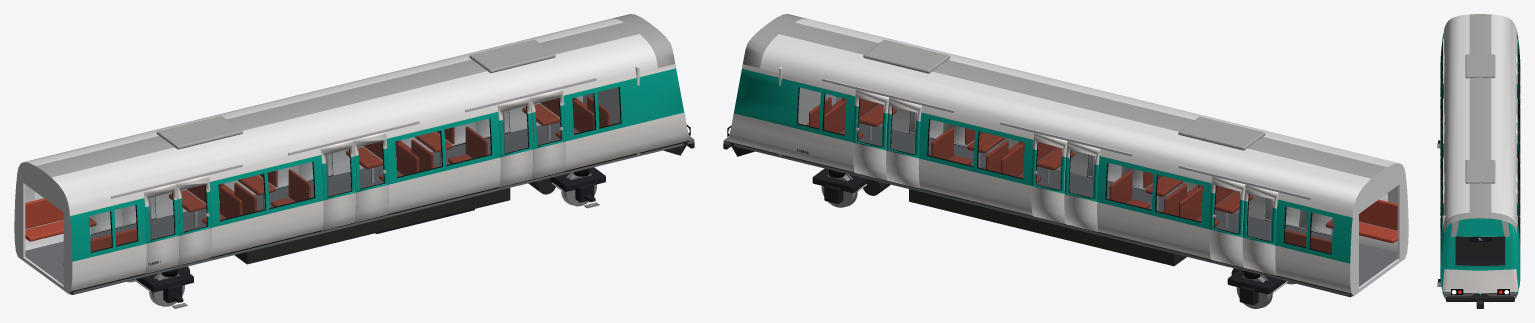
Rendered from mf88_cab.glb.
3 views of the same model, side by side, from view 1: azimuth 30°, elevation 25°; view 2: azimuth 150°, elevation 25°; view 3: azimuth 270°, elevation 25° (orthographic). The views are drawn at different scales.
Visible parts, largest first — view 1: METRO_MF88_7bis-3voit_V1_Caisse, METRO_MF88_7bis-3voit_V1_BaieG1, METRO_MF88_7bis-3voit_V1_PorteD1_AV.002, METRO_MF88_7bis-3voit_V1_PorteD2_AV.002, METRO_MF88_7bis-3voit_V1_PorteD3_AV.002, METRO_MF88_7bis-3voit_V1_PorteD3_AR.002, METRO_MF88_7bis-3voit_V1_PorteD2_AR.002, METRO_MF88_7bis-3voit_V1_PorteD1_AR.002, METRO_MF88_7bis-3voit_V1_PorteD1_AR_Vitre, METRO_MF88_7bis-3voit_V1_PorteD3_AV_Vitre, METRO_MF88_7bis-3voit_V1_PorteD2_AR_Vitre, METRO_MF88_7bis-3voit_V1_PorteD1_AV_Vitre (+3 smaller); view 2: METRO_MF88_7bis-3voit_V1_Caisse, METRO_MF88_7bis-3voit_V1_BaieG1, METRO_MF88_7bis-3voit_V1_PorteG2_AV.002, METRO_MF88_7bis-3voit_V1_PorteG3_AV.002, METRO_MF88_7bis-3voit_V1_PorteG1_AV.002, METRO_MF88_7bis-3voit_V1_PorteG3_AR.002, METRO_MF88_7bis-3voit_V1_PorteG2_AR.002, METRO_MF88_7bis-3voit_V1_PorteG1_AR.002, METRO_MF88_7bis-3voit_V1_PorteG1_AV_Vitre, METRO_MF88_7bis-3voit_V1_PorteG1_AR_Vitre, METRO_MF88_7bis-3voit_V1_PorteG2_AV_Vitre, METRO_MF88_7bis-3voit_V1_PorteG2_AR_Vitre (+3 smaller); view 3: METRO_MF88_7bis-3voit_V1_Caisse, METRO_MF88_7bis-3voit_V1_BaieG1.
Boxes of the visible parts, x1,y1,x2,y2 form: METRO_MF88_7bis-3voit_V1_Caisse: (14, 14, 694, 308); METRO_MF88_7bis-3voit_V1_BaieG1: (35, 87, 620, 251); METRO_MF88_7bis-3voit_V1_PorteD1_AV.002: (530, 89, 565, 179); METRO_MF88_7bis-3voit_V1_PorteD2_AV.002: (353, 132, 388, 222); METRO_MF88_7bis-3voit_V1_PorteD3_AV.002: (176, 175, 211, 265); METRO_MF88_7bis-3voit_V1_PorteD3_AR.002: (143, 183, 179, 273); METRO_MF88_7bis-3voit_V1_PorteD2_AR.002: (320, 140, 356, 230); METRO_MF88_7bis-3voit_V1_PorteD1_AR.002: (497, 97, 532, 187); METRO_MF88_7bis-3voit_V1_PorteD1_AR_Vitre: (502, 106, 527, 153); METRO_MF88_7bis-3voit_V1_PorteD3_AV_Vitre: (181, 185, 206, 231); METRO_MF88_7bis-3voit_V1_PorteD2_AR_Vitre: (325, 149, 350, 196); METRO_MF88_7bis-3voit_V1_PorteD1_AV_Vitre: (535, 98, 560, 145); METRO_MF88_7bis-3voit_V1_Caisse: (723, 14, 1408, 308); METRO_MF88_7bis-3voit_V1_BaieG1: (798, 88, 1387, 253); METRO_MF88_7bis-3voit_V1_PorteG2_AV.002: (1031, 133, 1067, 223); METRO_MF88_7bis-3voit_V1_PorteG3_AV.002: (1209, 176, 1245, 267); METRO_MF88_7bis-3voit_V1_PorteG1_AV.002: (853, 89, 888, 180); METRO_MF88_7bis-3voit_V1_PorteG3_AR.002: (1242, 184, 1278, 275); METRO_MF88_7bis-3voit_V1_PorteG2_AR.002: (1064, 141, 1100, 231); METRO_MF88_7bis-3voit_V1_PorteG1_AR.002: (886, 97, 921, 188); METRO_MF88_7bis-3voit_V1_PorteG1_AV_Vitre: (858, 99, 883, 146); METRO_MF88_7bis-3voit_V1_PorteG1_AR_Vitre: (891, 107, 916, 154); METRO_MF88_7bis-3voit_V1_PorteG2_AV_Vitre: (1036, 143, 1061, 189); METRO_MF88_7bis-3voit_V1_PorteG2_AR_Vitre: (1069, 151, 1094, 197); METRO_MF88_7bis-3voit_V1_Caisse: (1437, 14, 1520, 308); METRO_MF88_7bis-3voit_V1_BaieG1: (1442, 96, 1518, 266).
Bounding box in the file's own units: 15.48 × 3.49 × 2.53.
Materials: 9 (9 with a texture image).
